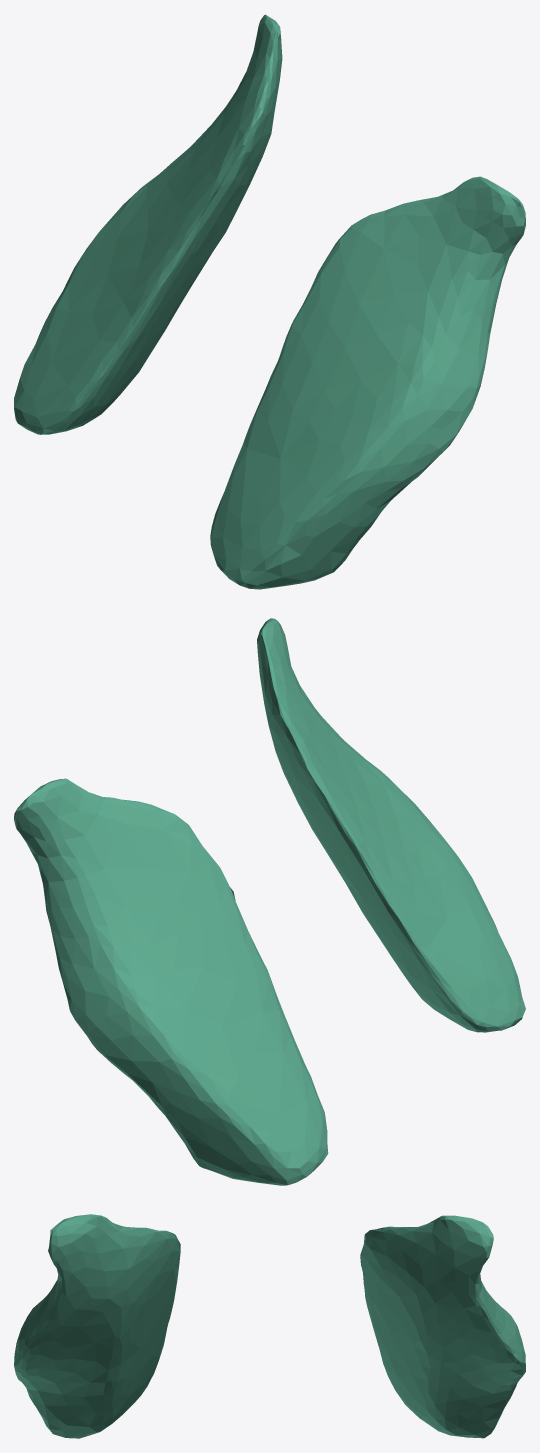
3 views of the same model, one above another, from view 1: azimuth 30°, elevation 25°; view 2: azimuth 150°, elevation 25°; view 3: azimuth 270°, elevation 25° (orthographic). The views are drawn at different scales.
Parts seen in each view (by area): view 1: 1125.obj; view 2: 1125.obj; view 3: 1125.obj.
Part boxes in pixels (x1,y1,x2,y2): 1125.obj: (14,14,525,589); 1125.obj: (14,618,525,1185); 1125.obj: (14,1214,525,1438).
Bounding box in the file's own units: 1314 × 1560 × 2402.
